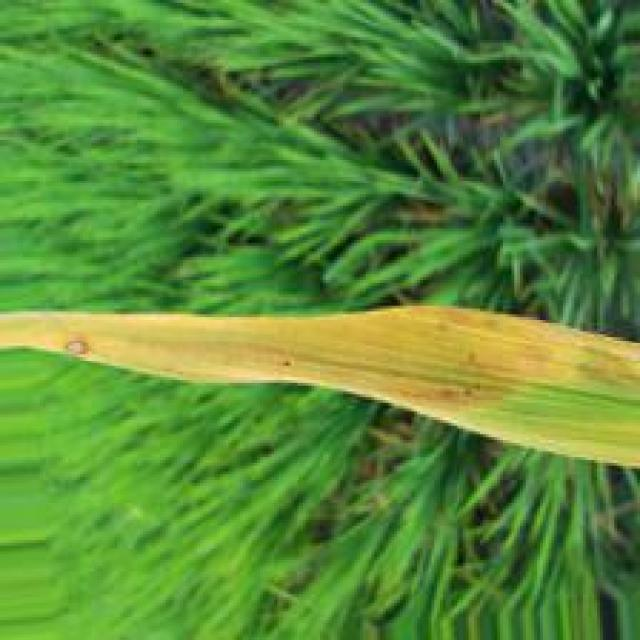Bacterial_Leaf_Blight: (43, 307, 639, 424)
